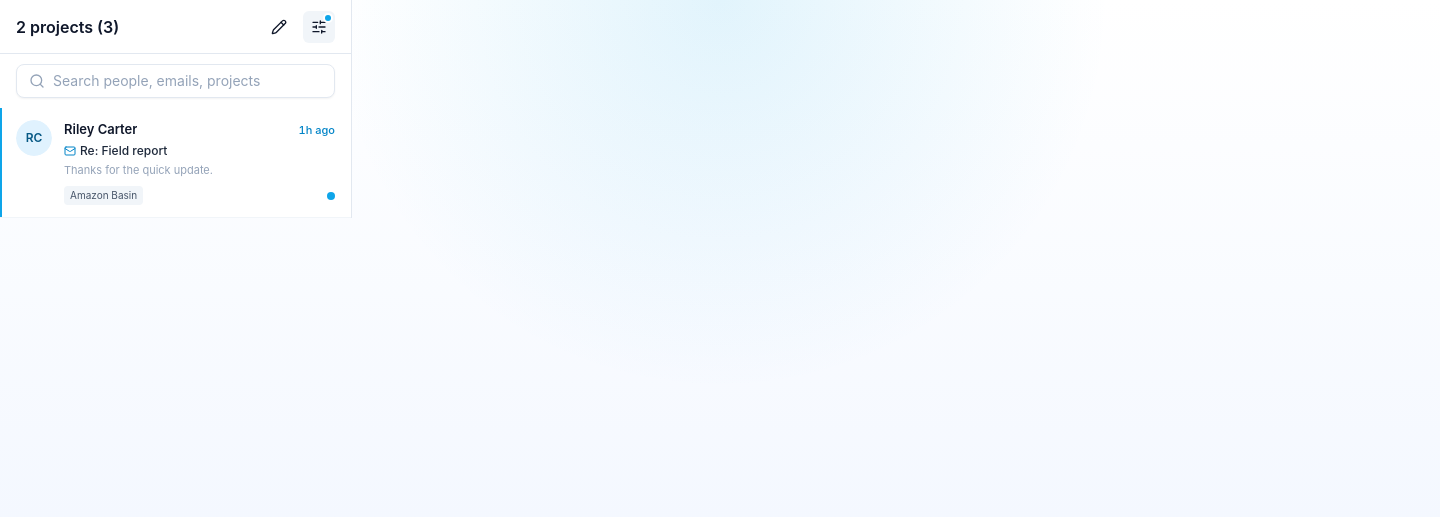
Test: Inbox list shell › renders Filtered when more than two facets are active
Click the button named "Filters" at [319, 26], box x1=303 y1=10 x2=335 y2=42
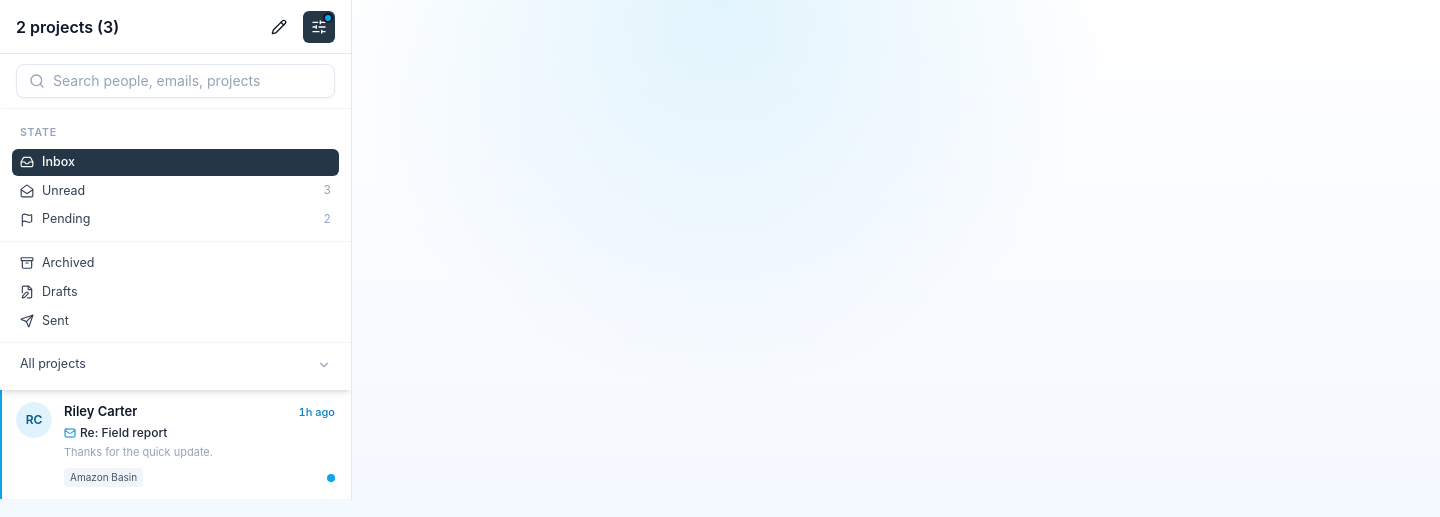
Click the button "Unread 3" at [64, 190], box x1=12 y1=178 x2=339 y2=204
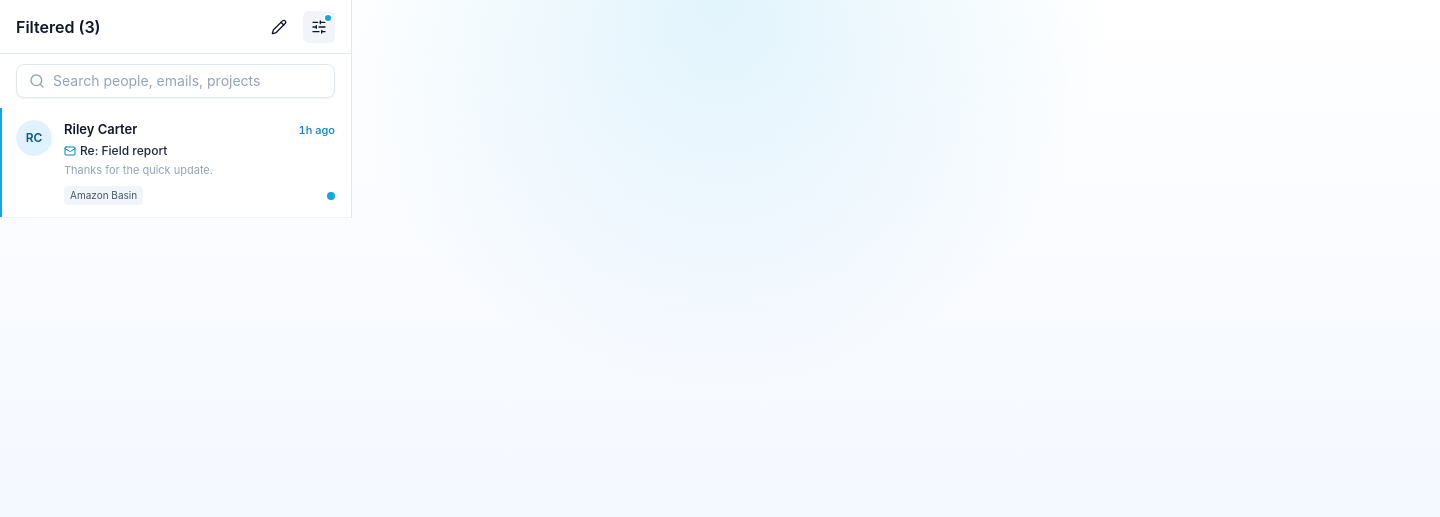
Expected: the heading "Filtered (3)" is shown, x1=16 y1=16 x2=101 y2=36
